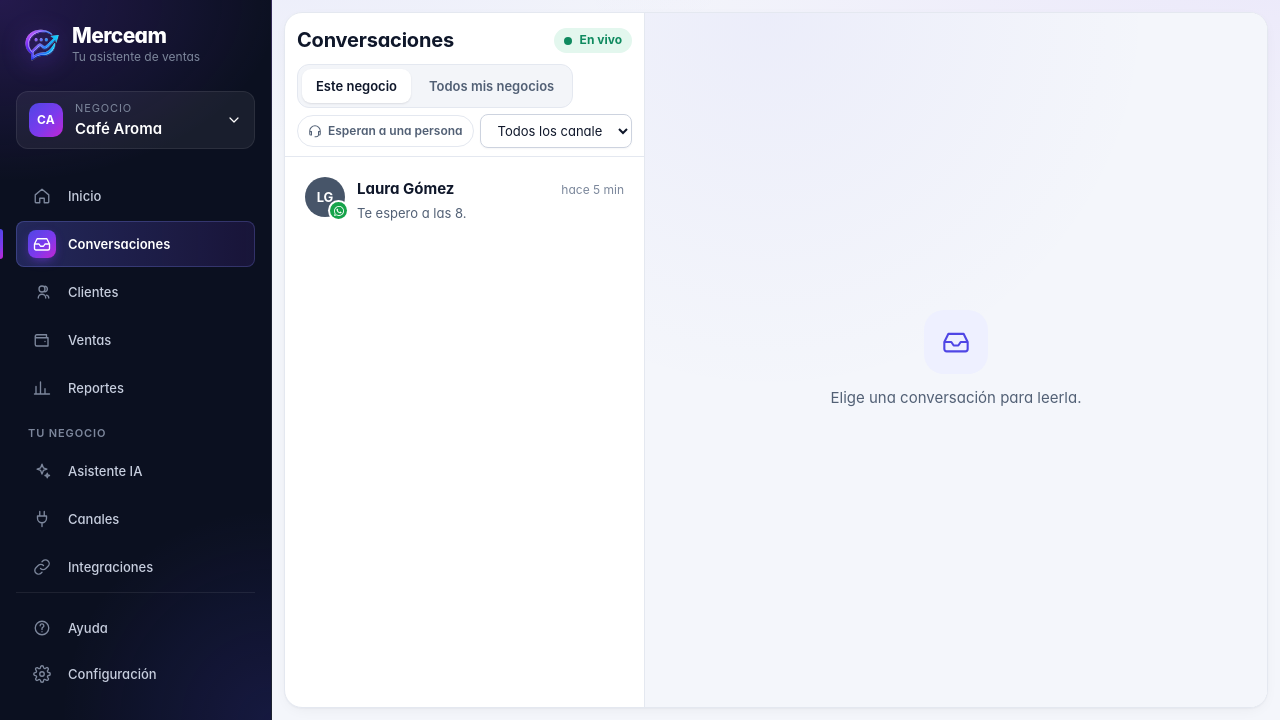
Conversaciones › muestra los chats del negocio con su canal y su negocio, y abre el historial
expect the heading "Conversaciones" is shown: met, box [297, 25, 454, 56]
expect the picture named "WhatsApp" is shown: met, box [330, 202, 347, 219]
Click the button "LG Laura Gómez hace 5 min Te espero a las 8.": coordinates (325, 197) [293, 165, 636, 236]
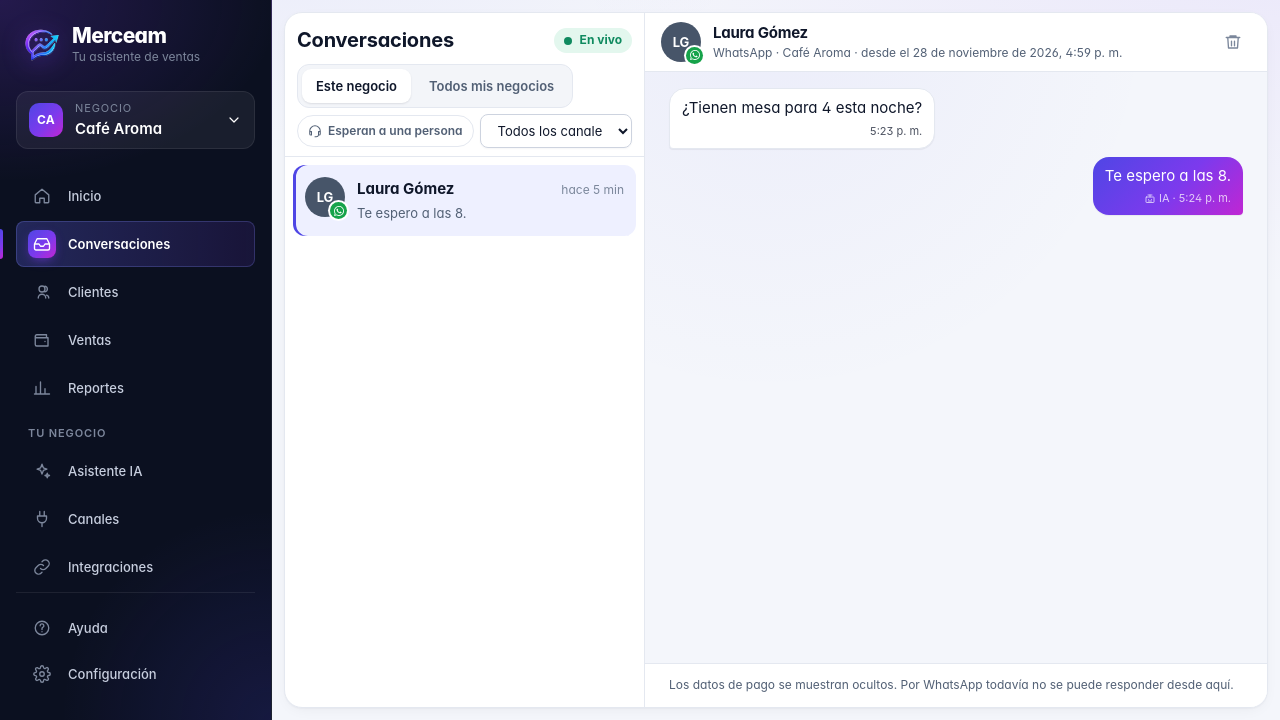
expect the heading "Laura Gómez" is shown: met, box [713, 23, 808, 42]
expect the text "WhatsApp · Café Aroma" is shown: met, box [713, 45, 1122, 60]
expect the text "¿Tienen mesa para 4 esta noche?" is shown: met, box [682, 97, 922, 119]
